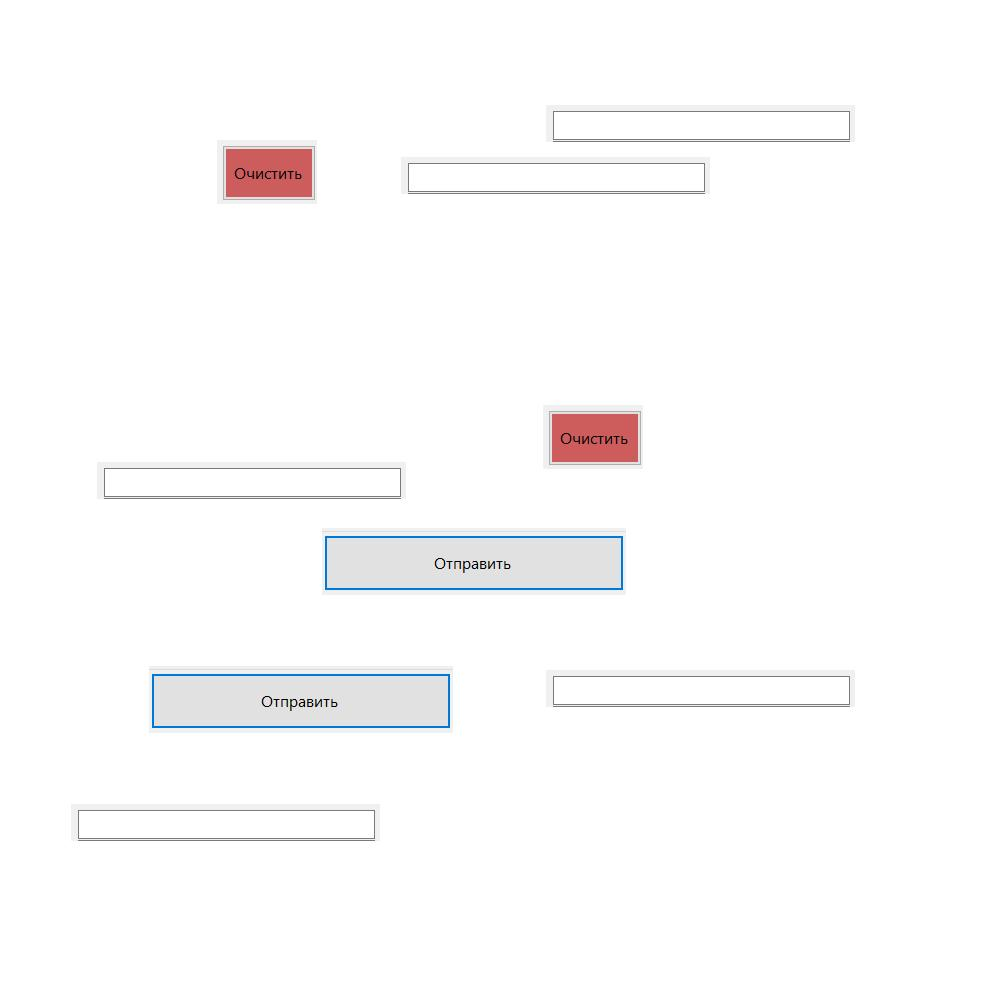Button: (322, 528, 626, 595), (149, 666, 453, 733), (217, 140, 317, 204), (543, 405, 643, 469)
EditText-: (97, 462, 406, 499), (401, 157, 710, 194), (71, 804, 380, 841), (546, 105, 855, 142), (546, 670, 855, 707)
